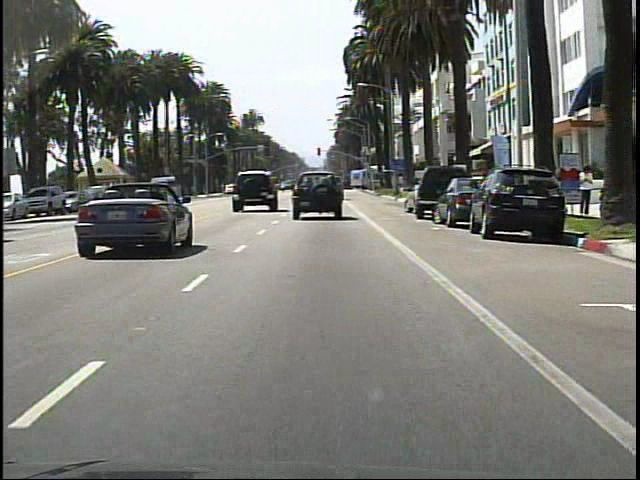person: (577, 164, 595, 218)
